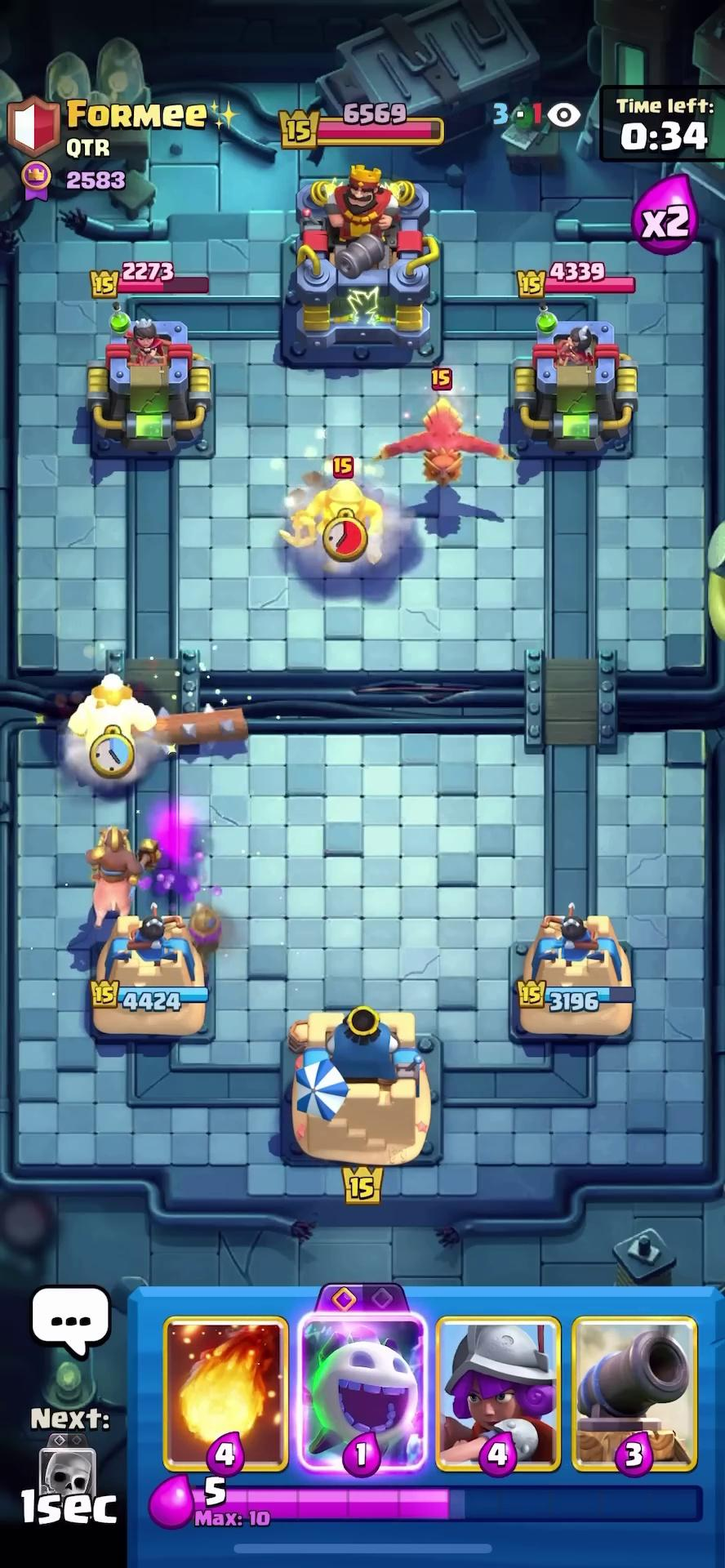hog_rider: (59, 804, 169, 933)
ice_golem: (71, 670, 157, 751)
log: (147, 698, 269, 757)
musketeer: (163, 884, 239, 984)
